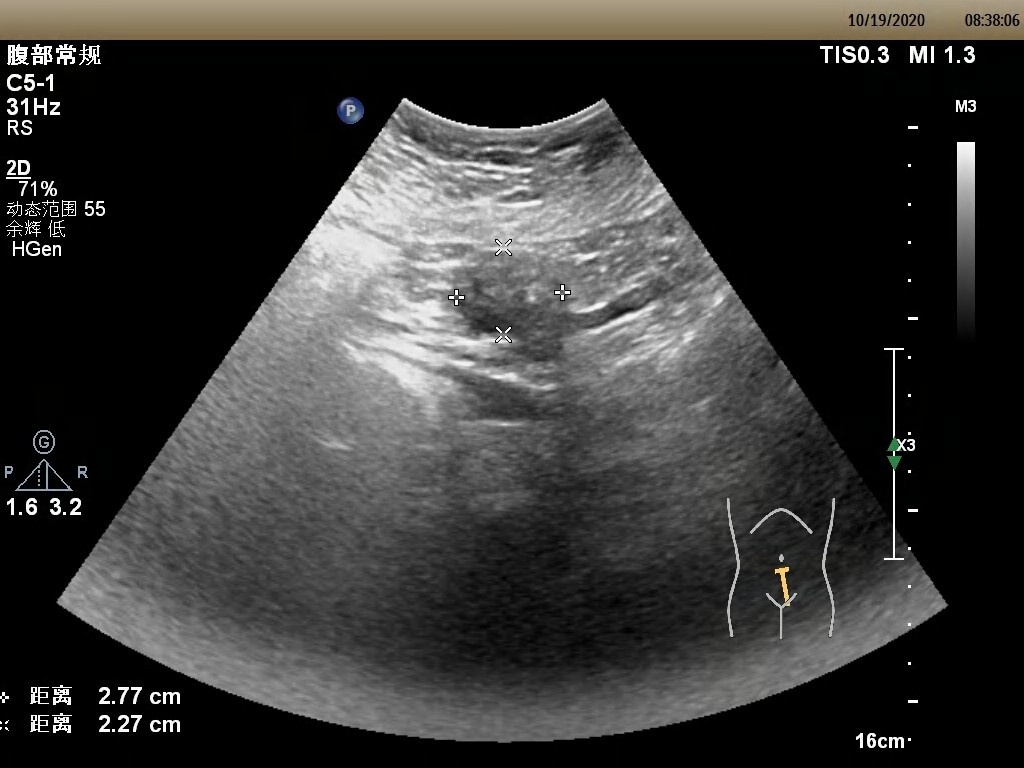肌瘤: (453, 245, 558, 340)
